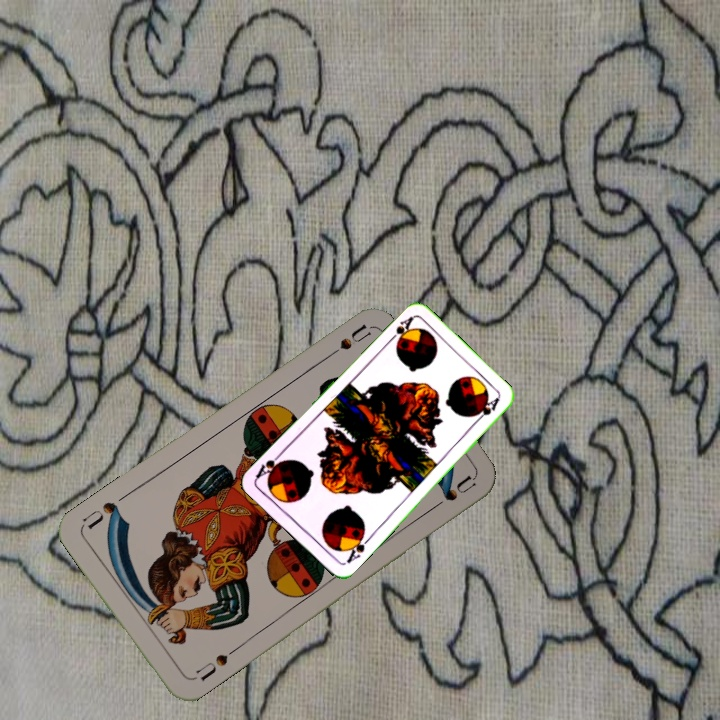SA: (342, 529, 373, 566), (384, 312, 416, 346)
SU: (318, 321, 372, 364), (191, 649, 231, 684)
